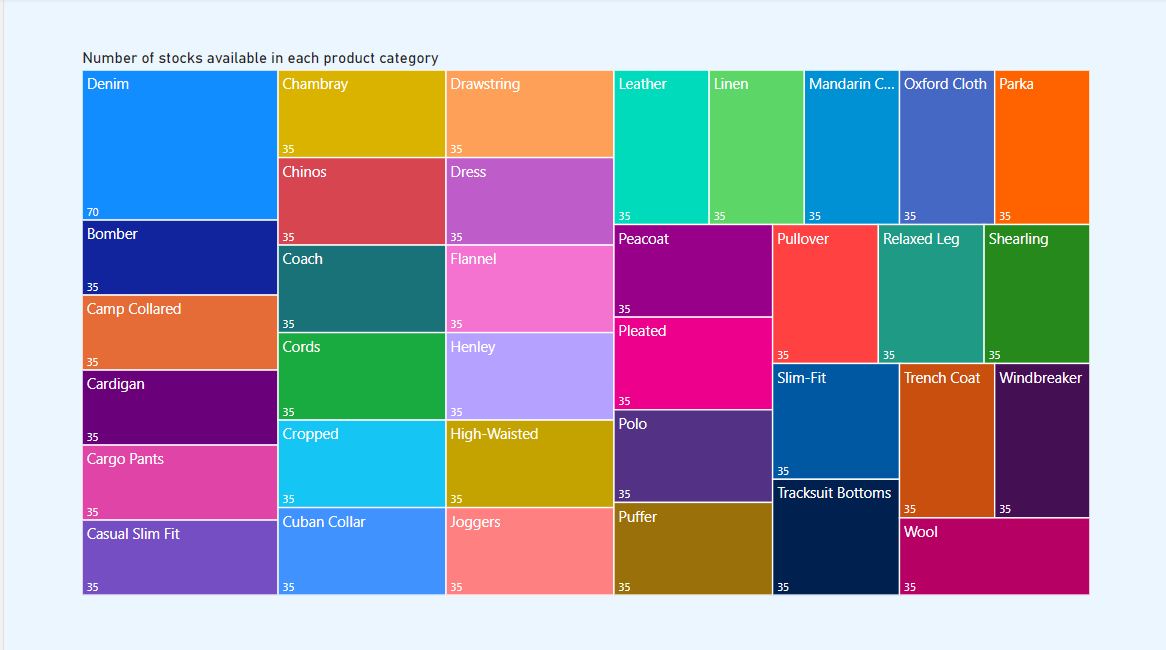

The page's visual inventory and layout, read from the dashboard file:
{"tool":"powerbi","page":{"name":"Inventory Data","canvas":[1280,720],"ordinal":2},"visuals":[{"type":"treemap","title":"Number of stocks available in each product category","fields":{"Group":["products.product_name"],"Values":["CountNonNull(products.quantity)"]},"box":[81.4,56.9,1117.1,605.4],"z":1}]}

Visuals, with their boxes in screenshot pixels (x1, y1, x2, y2), scaled from the page's 1280x720 canvas onto the 1166x650 screenshot:
"Number of stocks available in each product category" treemap: bbox(74, 51, 1092, 598)
